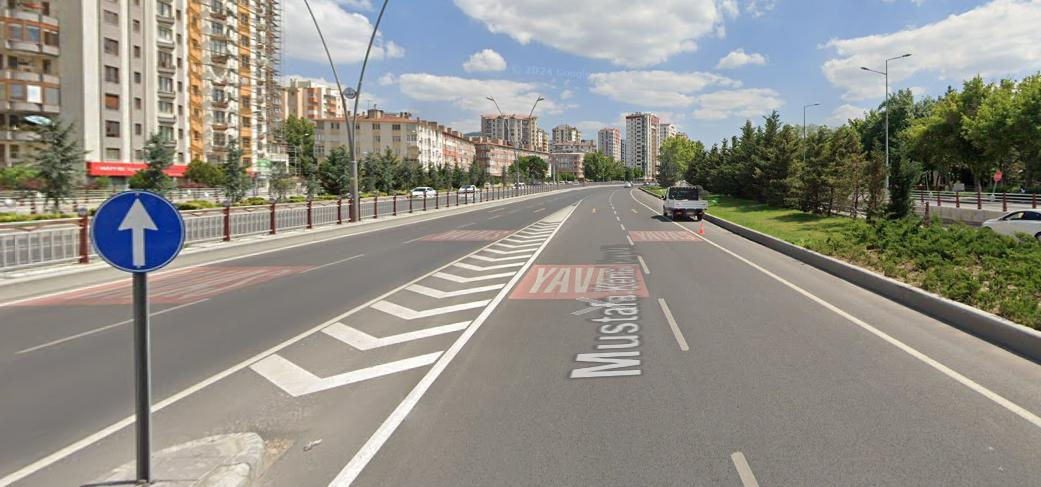forward: (92, 192, 186, 275)
